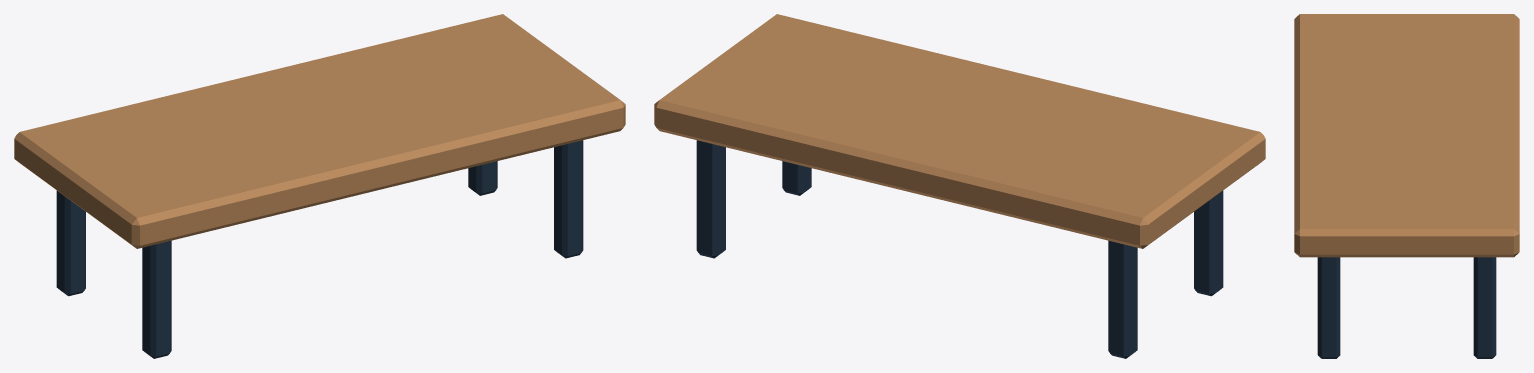
The model's file is SM_ReadingTable.obj.
3 views of the same model, side by side, from view 1: azimuth 30°, elevation 25°; view 2: azimuth 150°, elevation 25°; view 3: azimuth 270°, elevation 25° (orthographic). The views are drawn at different scales.
Parts seen in each view (by area): view 1: SM_ReadingTable; view 2: SM_ReadingTable; view 3: SM_ReadingTable.
Boxes of the visible parts, x1=… form: SM_ReadingTable: x1=14, y1=14, x2=625, y2=358; SM_ReadingTable: x1=654, y1=14, x2=1265, y2=358; SM_ReadingTable: x1=1294, y1=14, x2=1519, y2=358.
Bounding box in the file's own units: 3 × 0.91 × 1.3.
